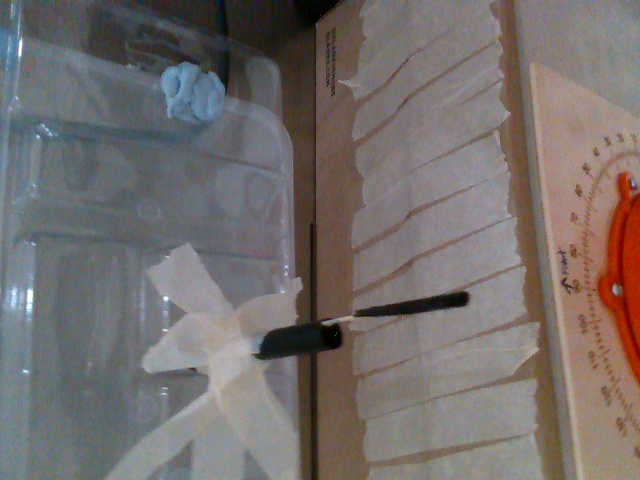test_strip: (323, 287, 468, 322)
